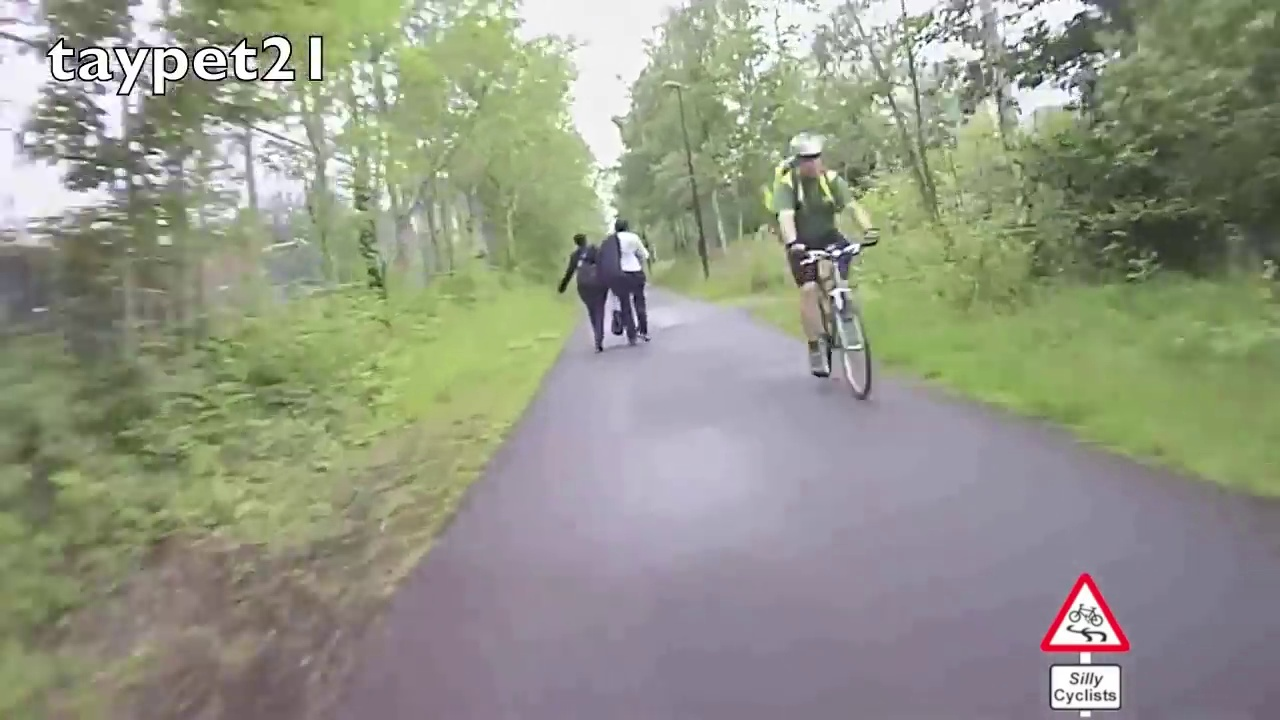cyclist_front: (765, 125, 894, 407)
